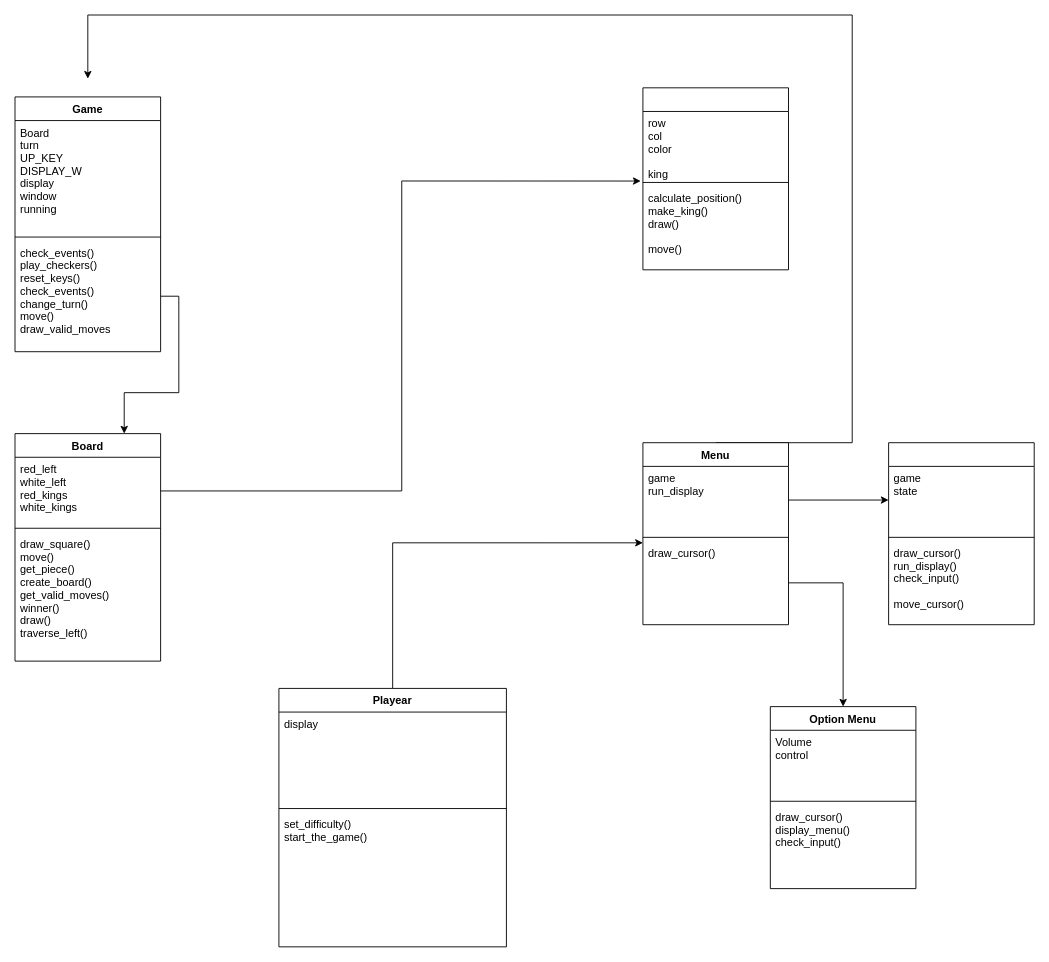
This 1049x962 diagram has some shape labels left out. The box of each missing label's shape, as (x1, y1, x2, y2) in pixels:
Main menu: (888, 442, 1034, 625)
Piece: (642, 87, 789, 270)
